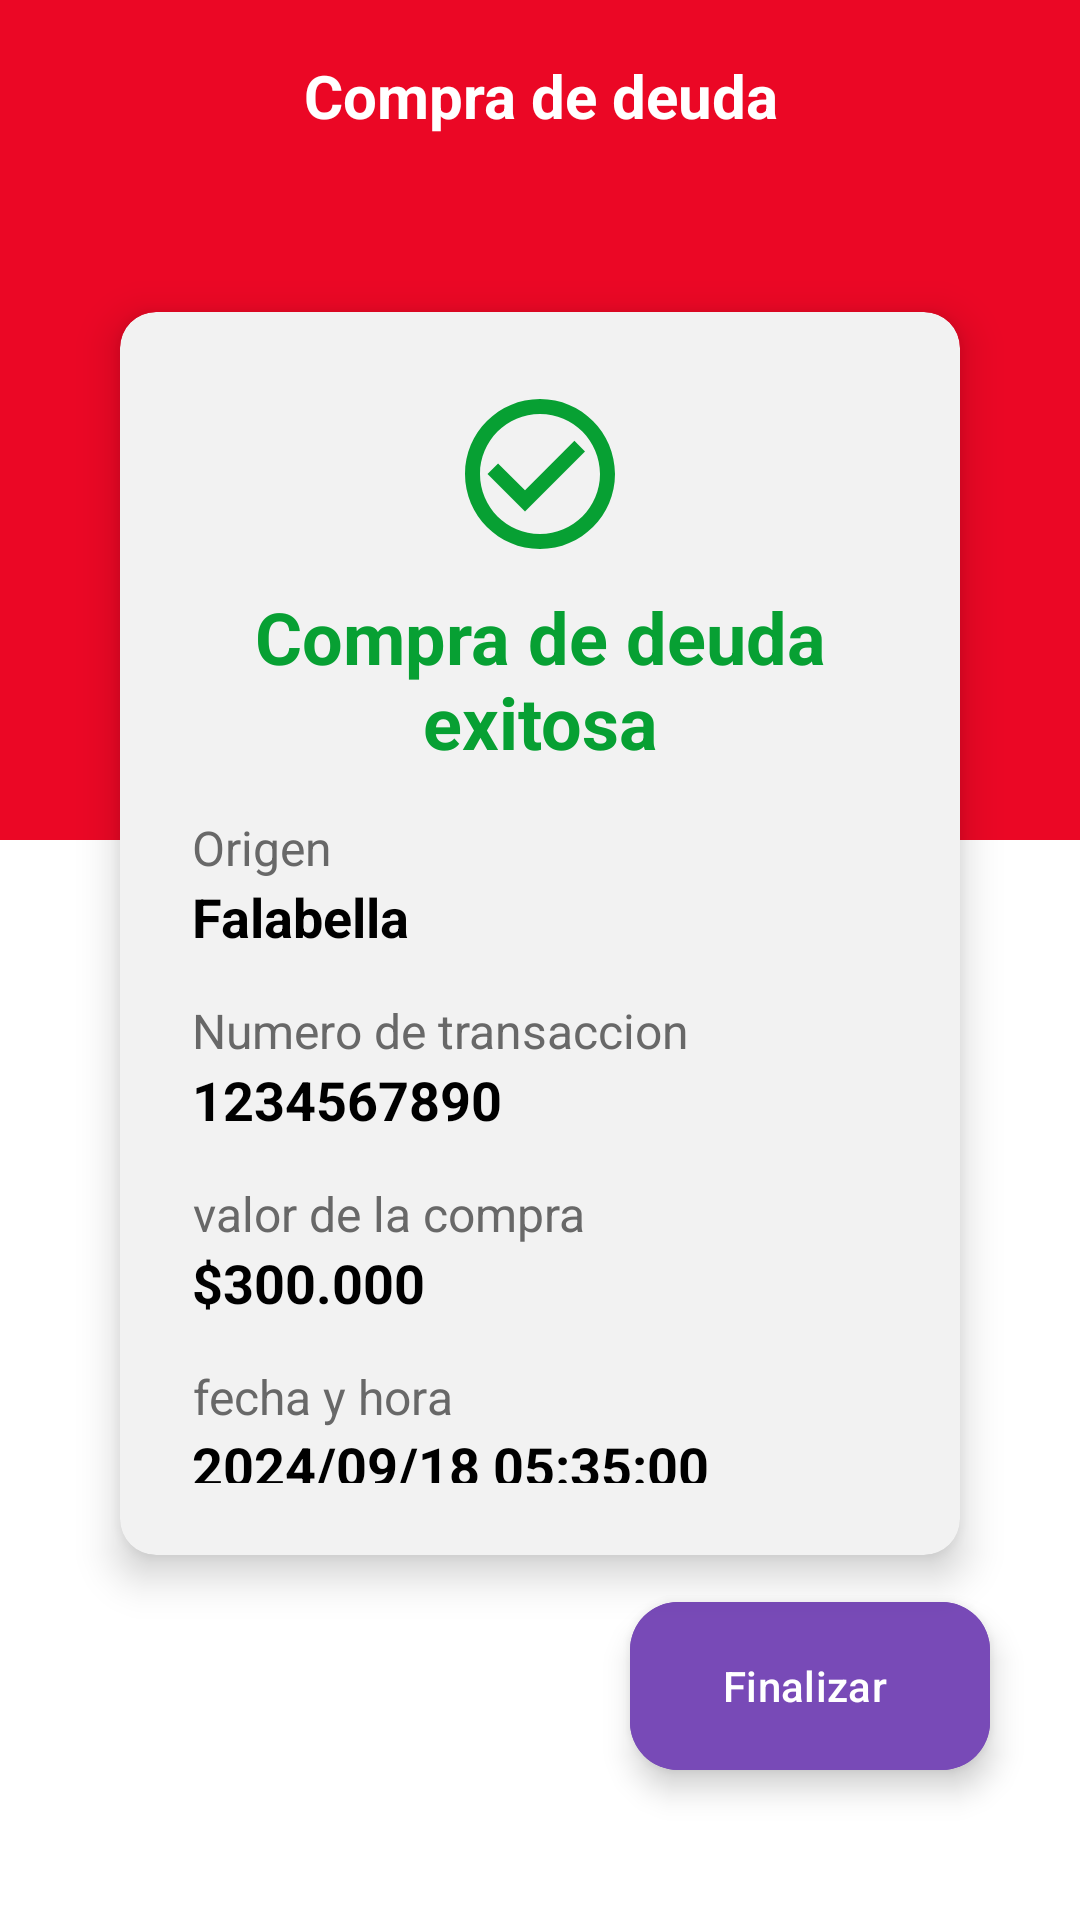

Icon bounding boxes for this 1080 x 1920 phone screenshot, format box(x1, y1, x2, y2):
check circle: box(465, 399, 615, 549)
